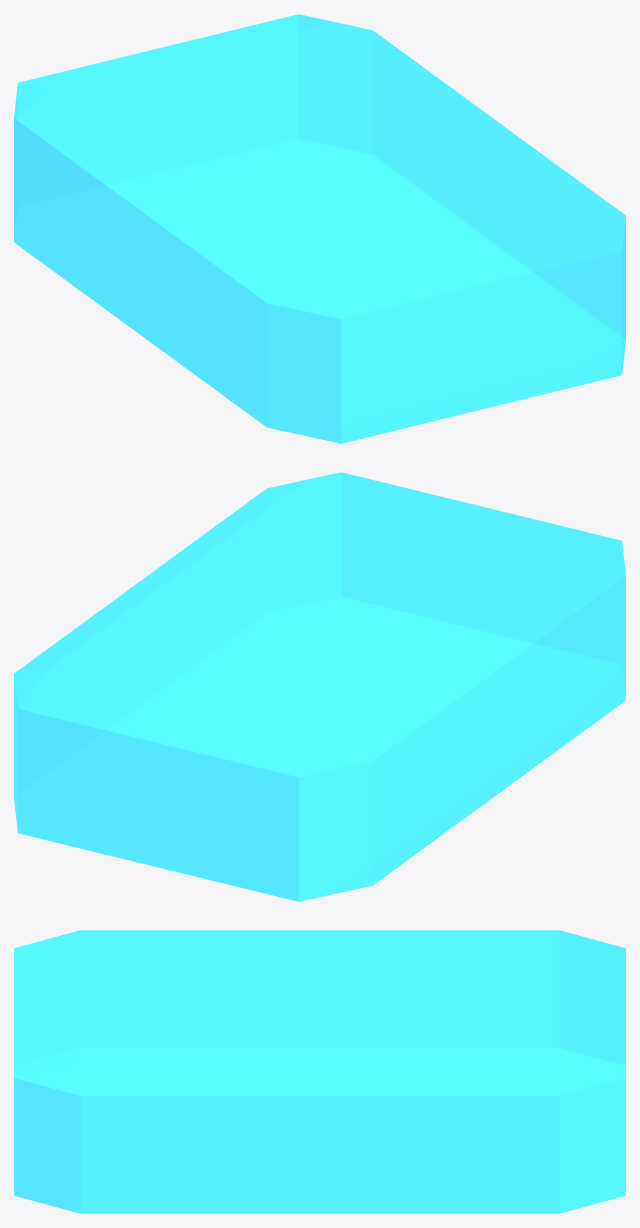
The model's file is IceNipples.fbx.
3 views of the same model, one above another, from view 1: azimuth 30°, elevation 25°; view 2: azimuth 150°, elevation 25°; view 3: azimuth 270°, elevation 25° (orthographic). The views are drawn at different scales.
Parts seen in each view (by area): view 1: Cube; view 2: Cube; view 3: Cube.
Part boxes in pixels (<box>): Cube: <box>14,14,625,443</box>; Cube: <box>14,472,625,901</box>; Cube: <box>14,930,625,1213</box>.
Size of the model in its own units: 152 by 64.45 by 238.
